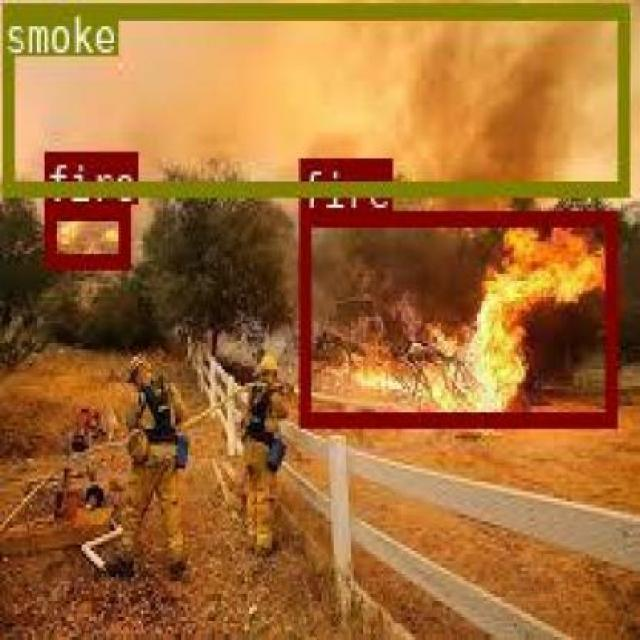fire: (299, 210, 613, 424), (44, 203, 127, 266)
smoke: (0, 1, 626, 194)
